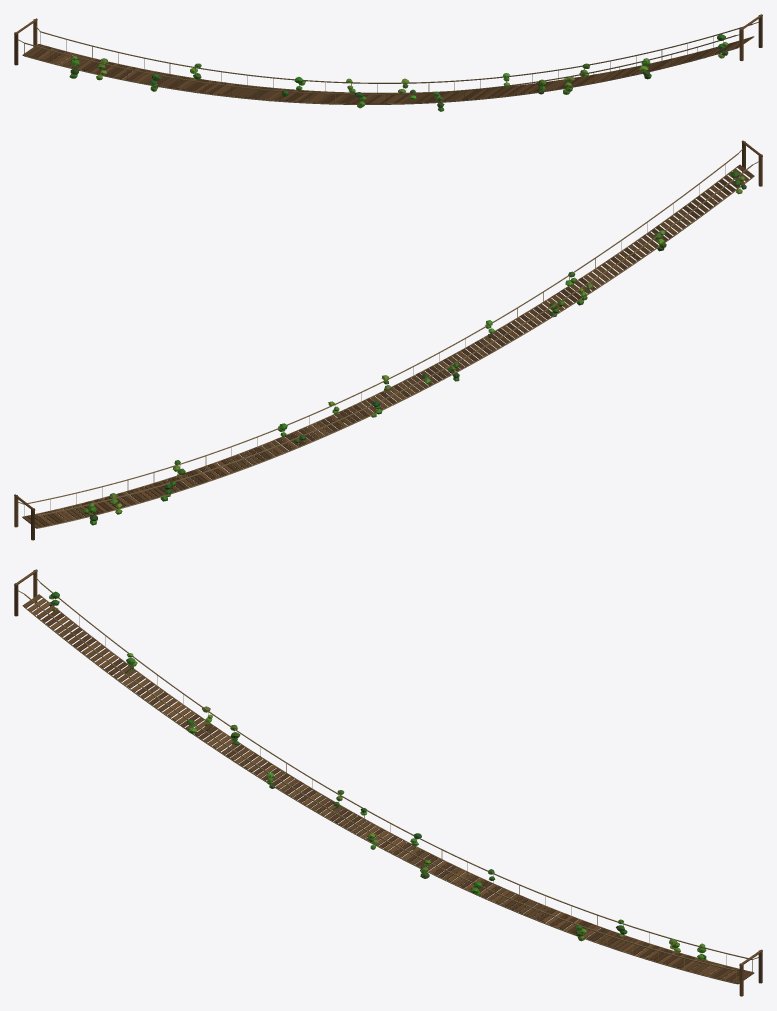
The model's file is SM_Bridge_05_06.fbx.
3 views of the same model, one above another, from view 1: azimuth 90°, elevation 25°; view 2: azimuth 150°, elevation 25°; view 3: azimuth 270°, elevation 25° (orthographic). The views are drawn at different scales.
Parts seen in each view (by area): view 1: SM_Bridge_05_06; view 2: SM_Bridge_05_06; view 3: SM_Bridge_05_06.
Boxes of the visible parts, <box> form: SM_Bridge_05_06: <box>14,14,762,111</box>; SM_Bridge_05_06: <box>14,140,762,540</box>; SM_Bridge_05_06: <box>14,569,762,996</box>.
Bounding box in the file's own units: 37.16 × 19.12 × 57.82.
